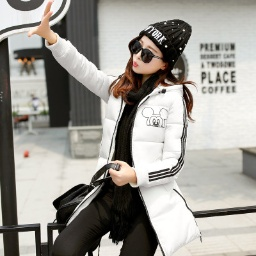face: (120, 36, 166, 85)
